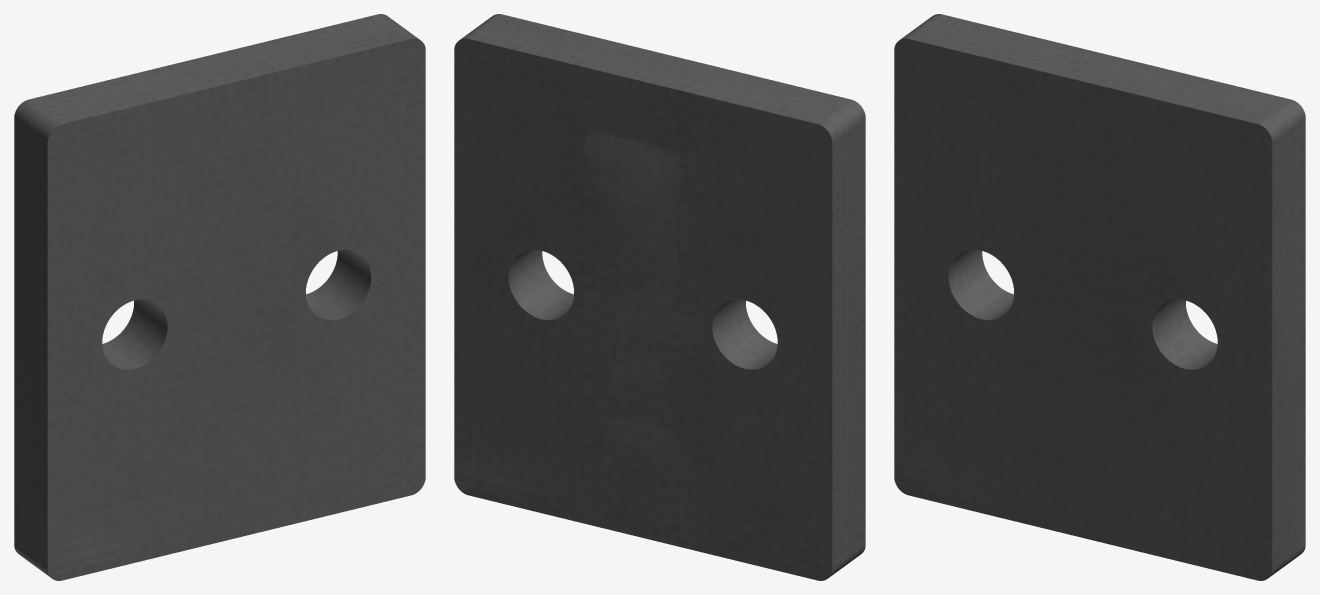
The model's file is payload_bracket__top_plate.glb.
3 views of the same model, side by side, from view 1: azimuth 30°, elevation 25°; view 2: azimuth 150°, elevation 25°; view 3: azimuth 330°, elevation 25° (orthographic).
Visible parts, largest first — view 1: world; view 2: world; view 3: world.
Boxes of the visible parts, x1,y1,x2,y2 form: world: [14, 14, 425, 580]; world: [454, 14, 865, 580]; world: [894, 14, 1305, 580].
Bounding box in the file's own units: 0.026 × 0.03 × 0.004.
1 material, 1 textured.
